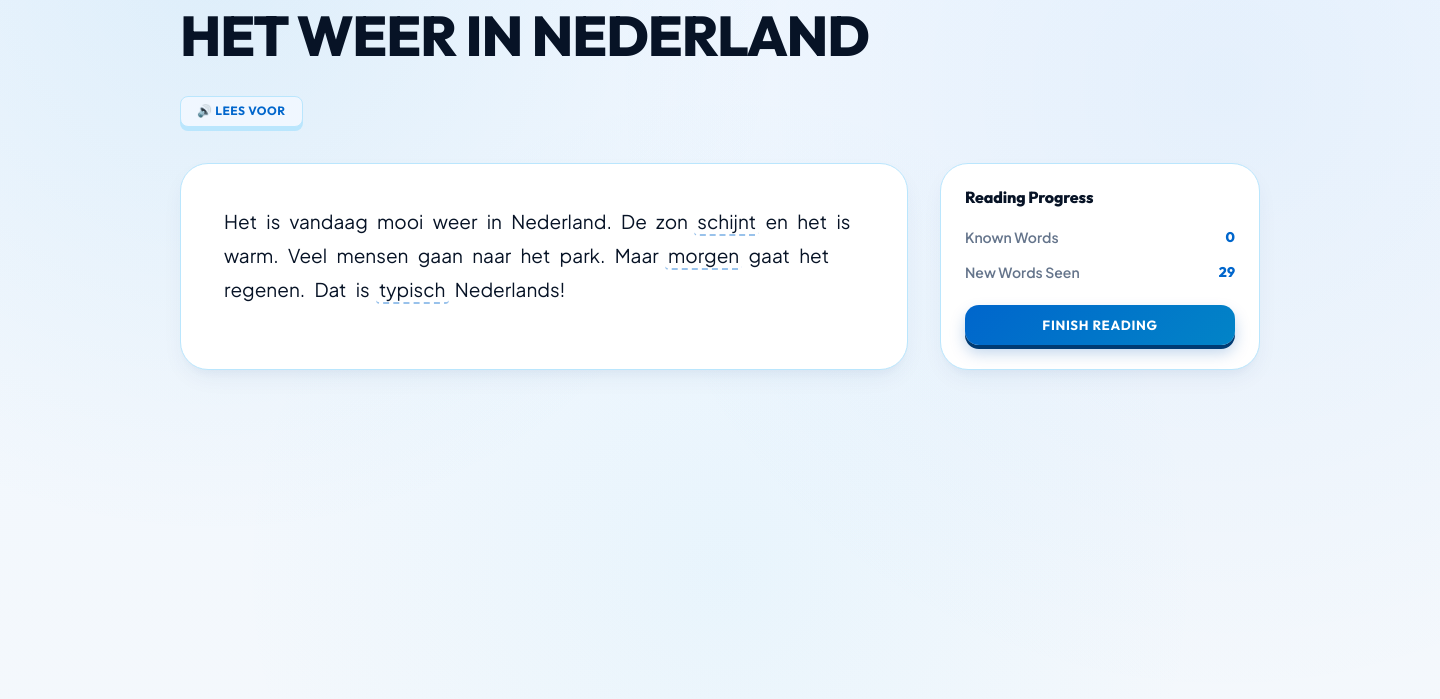
reading article page › submits the challenge answer and shows feedback
The width and height of the screenshot is (1440, 699).
Click the button "Finish Reading": (1100, 325) [965, 305, 1235, 345]
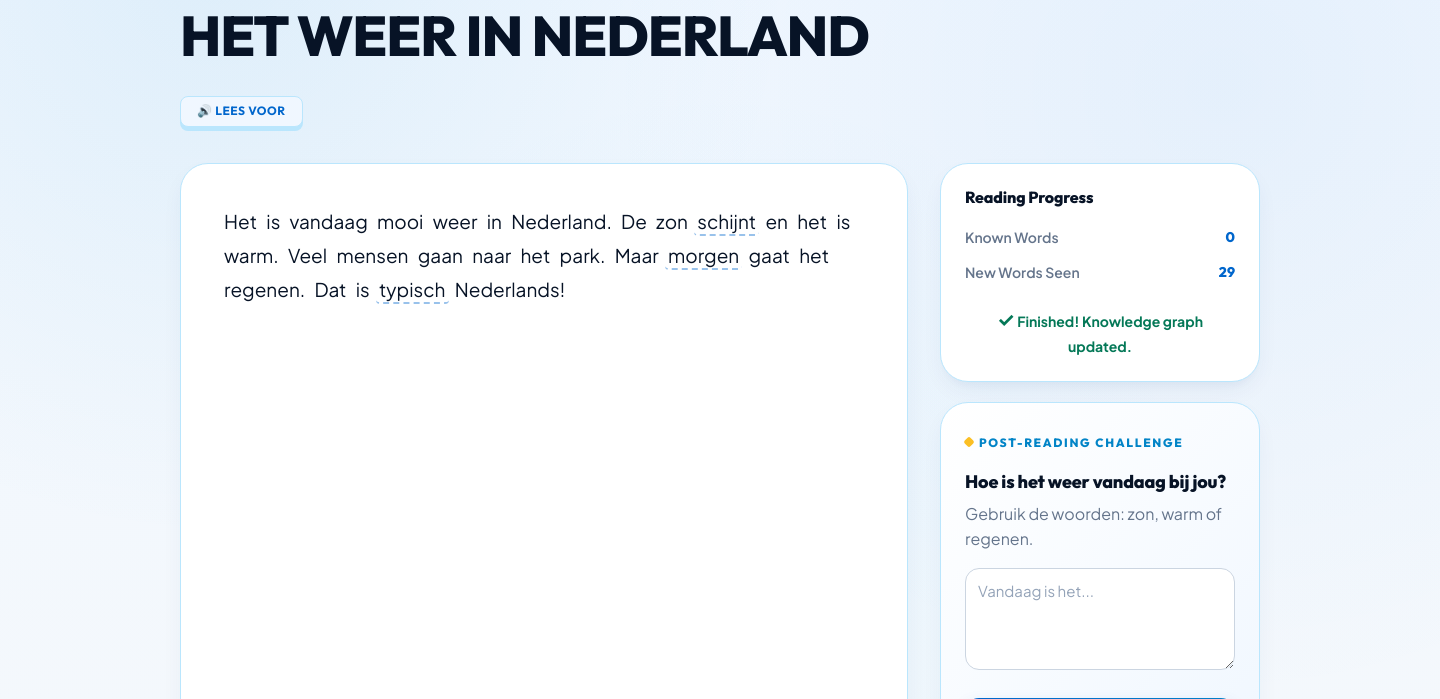
In the text box with placeholder "Vandaag is het...": (1100, 619) [965, 568, 1235, 670], type "Vandaag schijnt de zon en het is warm."
(page scrolled)
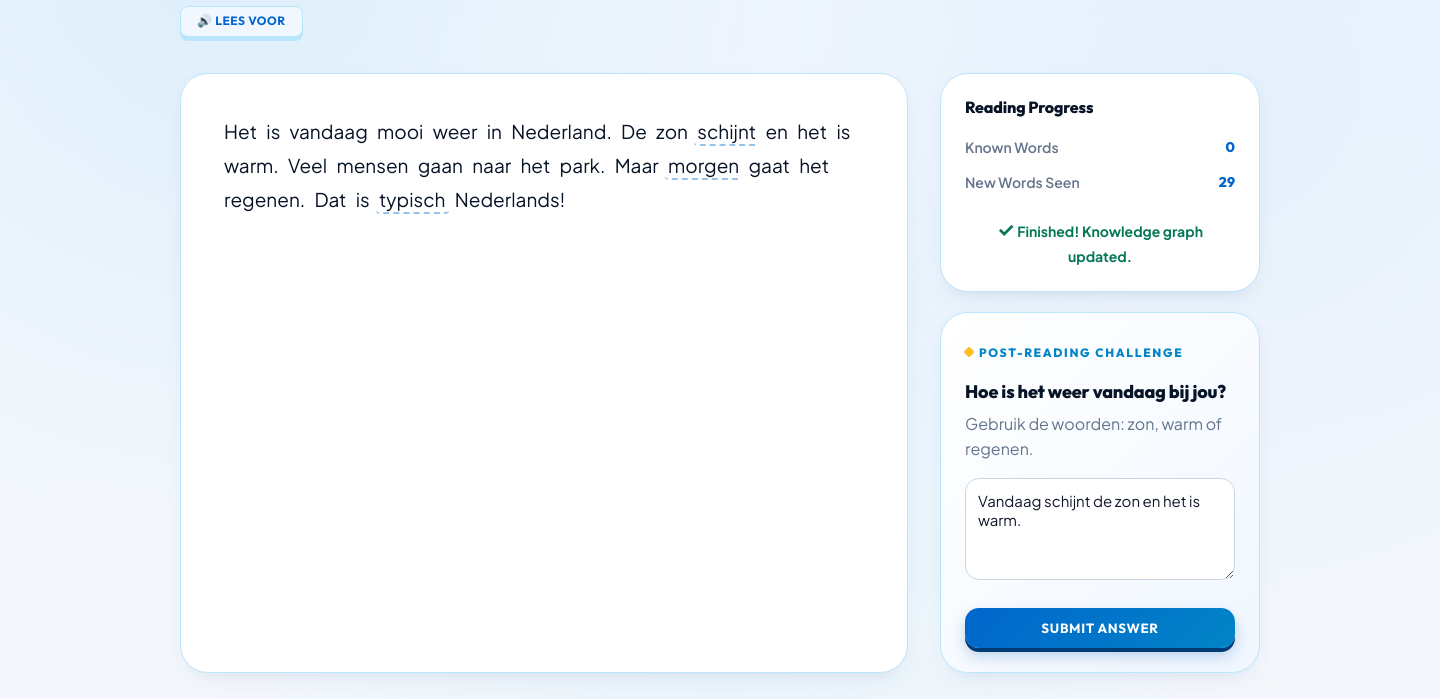
Click the button "Submit Answer": (1100, 628) [965, 608, 1235, 648]
(page scrolled)
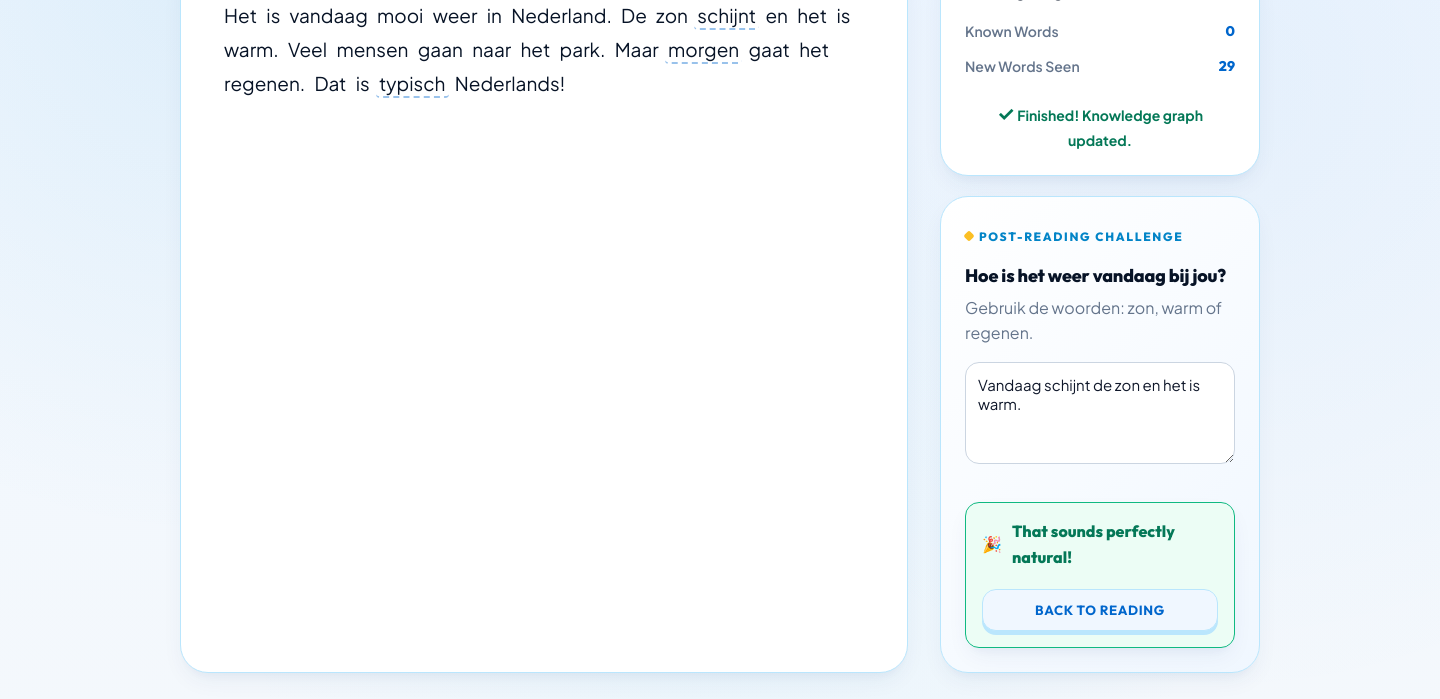
Expected: the element with class "feedback" is shown, [965, 502, 1235, 648]
Expected: the text "🎉" is shown, [982, 532, 1002, 558]
